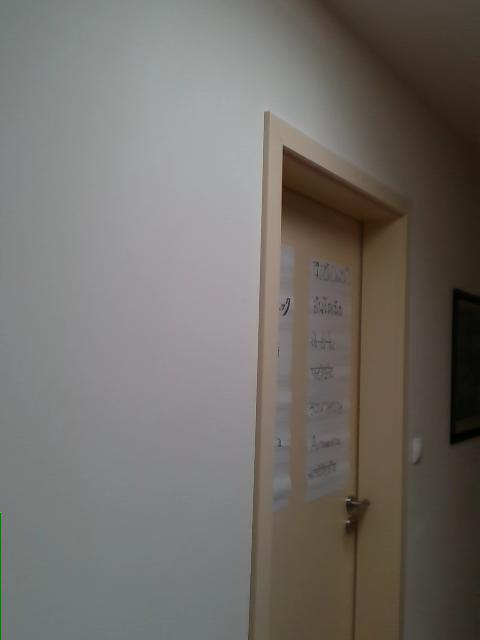door: (272, 186, 372, 638)
